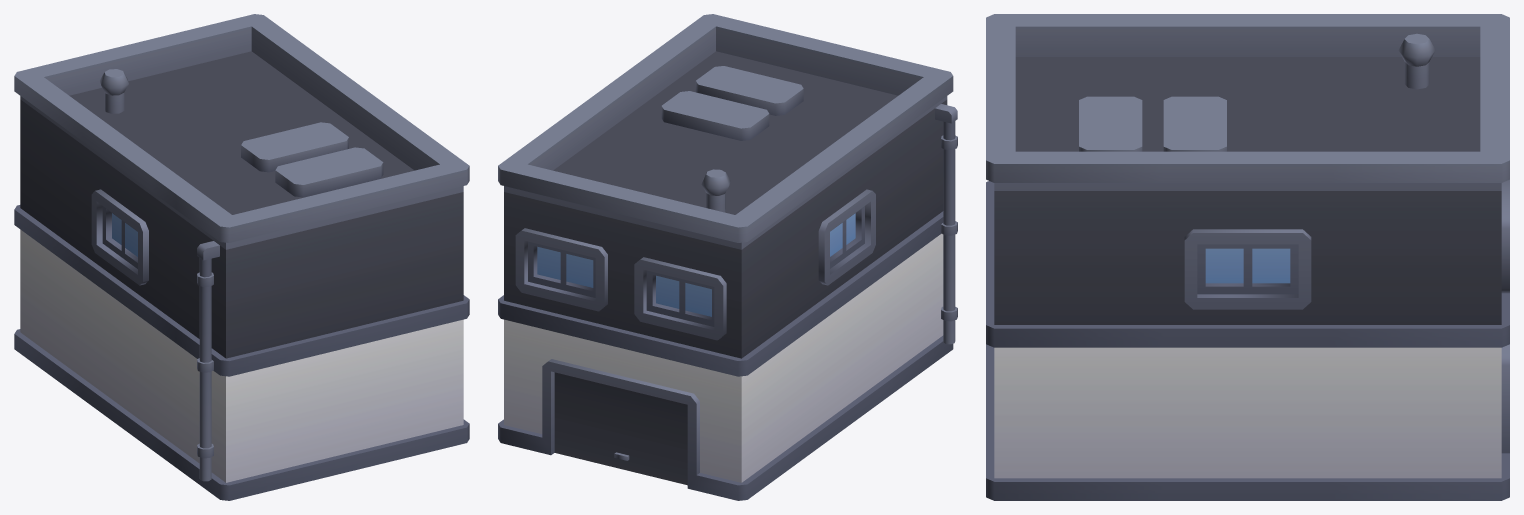
Rendered from building-o.glb.
3 views of the same model, side by side, from view 1: azimuth 30°, elevation 25°; view 2: azimuth 150°, elevation 25°; view 3: azimuth 270°, elevation 25° (orthographic). The views are drawn at different scales.
Visible parts, largest first — view 1: building-o; view 2: building-o; view 3: building-o.
Boxes of the visible parts, left/top/right/bottom form: building-o: left=14, top=14, right=469, bottom=500; building-o: left=498, top=14, right=957, bottom=500; building-o: left=986, top=14, right=1509, bottom=500.
Size of the model in its own units: 0.8836 by 0.918 by 1.24.
1 material, 1 textured.
